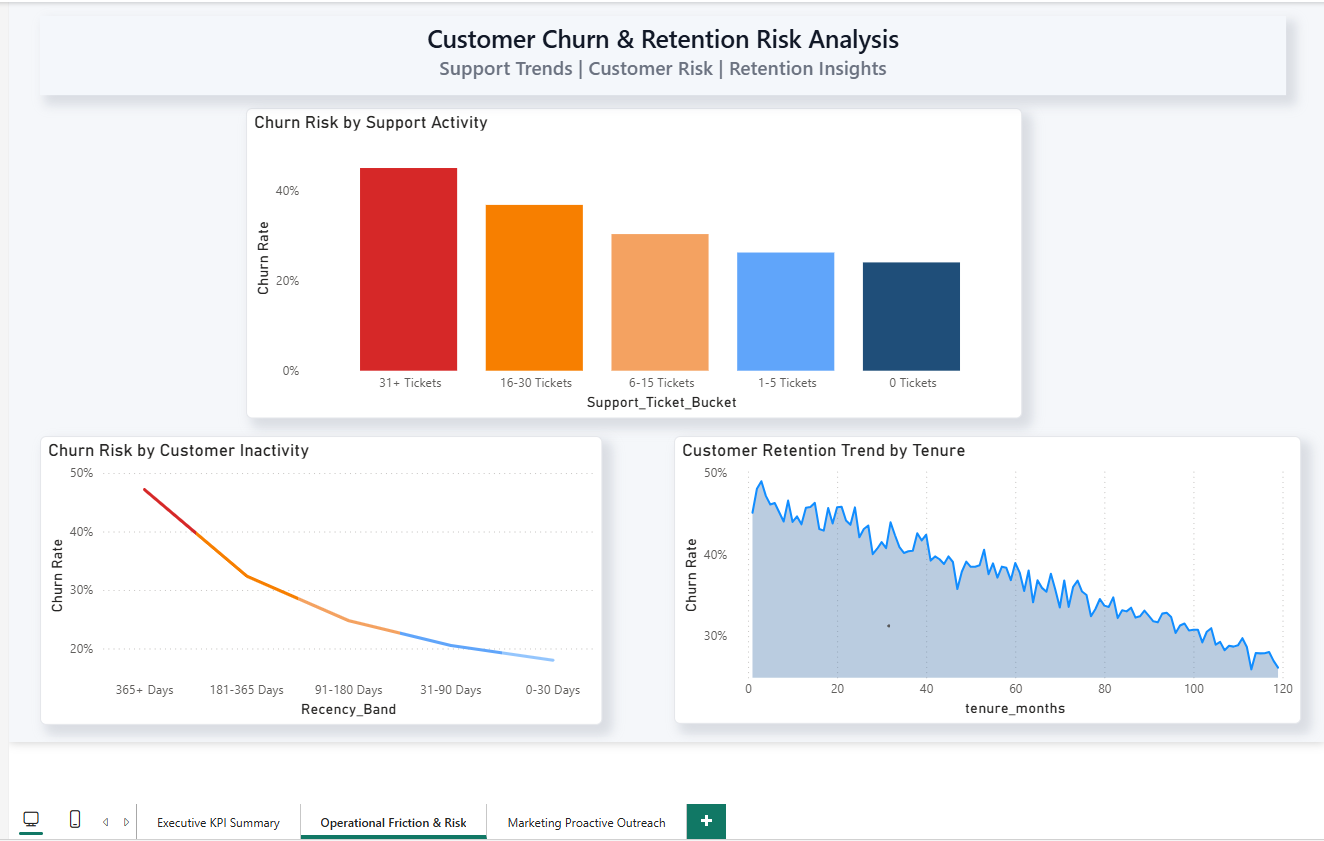

Layout of this report page (visuals, bound fields, positions):
{"tool":"powerbi","page":{"name":"Operational Friction & Risk","canvas":[1280,720],"ordinal":1},"visuals":[{"type":"clusteredColumnChart","title":"Churn Risk by Support Activity","fields":{"Category":["Query1.Support_Ticket_Bucket"],"Y":["Query1.Churn Rate"]},"box":[230.5,103.1,754.8,301.5],"z":0},{"type":"lineChart","title":"Churn Risk by Customer Inactivity","fields":{"Category":["Query1.Recency_Band"],"Y":["Query1.Churn Rate"]},"box":[30.2,422.1,546.6,281.1],"z":1000},{"type":"areaChart","title":"Customer Retention Trend by Tenure","fields":{"Category":["Query1.tenure_months"],"Y":["Query1.Churn Rate"]},"box":[646.8,422.1,609.8,280.1],"z":2000},{"type":"textbox","box":[30.2,13.6,1211.9,76.8],"z":2001}]}

Visuals, with their boxes on the page's 1280x720 design canvas (x1, y1, x2, y2). These are canvas units, not pixel positions in the 1324x841 screenshot, which may show the page scaled, cropped or inside an application window:
"Churn Risk by Support Activity" clusteredColumnChart: [x1=230, y1=103, x2=985, y2=405]
"Churn Risk by Customer Inactivity" lineChart: [x1=30, y1=422, x2=577, y2=703]
"Customer Retention Trend by Tenure" areaChart: [x1=647, y1=422, x2=1257, y2=702]
textbox: [x1=30, y1=14, x2=1242, y2=90]
